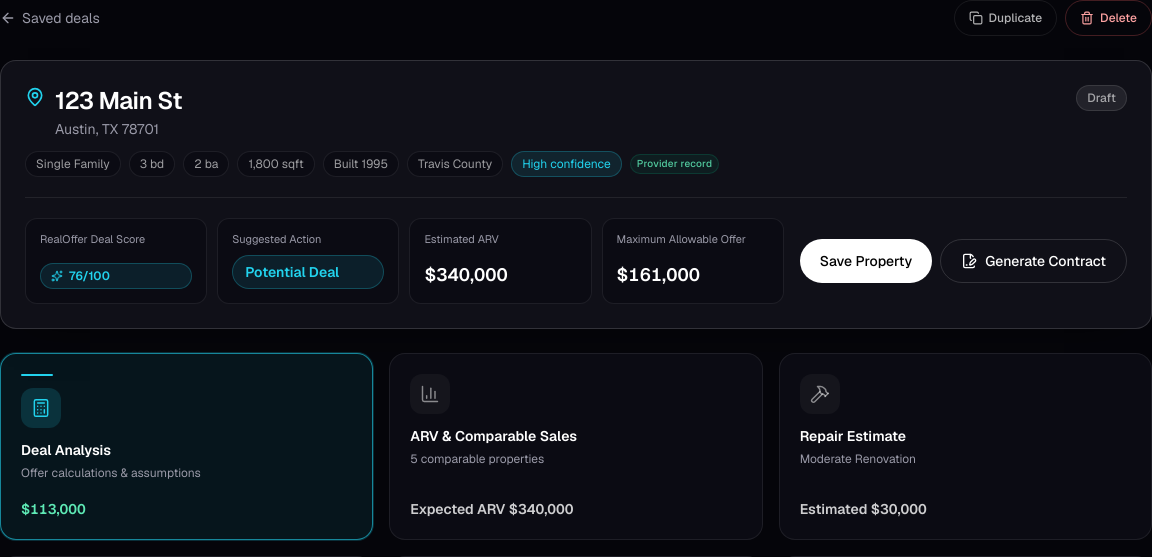
Test: DealWorkspace — section switching › renders only the selected section's content — never more than one at a time
Click the tab "ARV & Comparable Sales" at (576, 447), box [389,353,763,540]
(page scrolled)
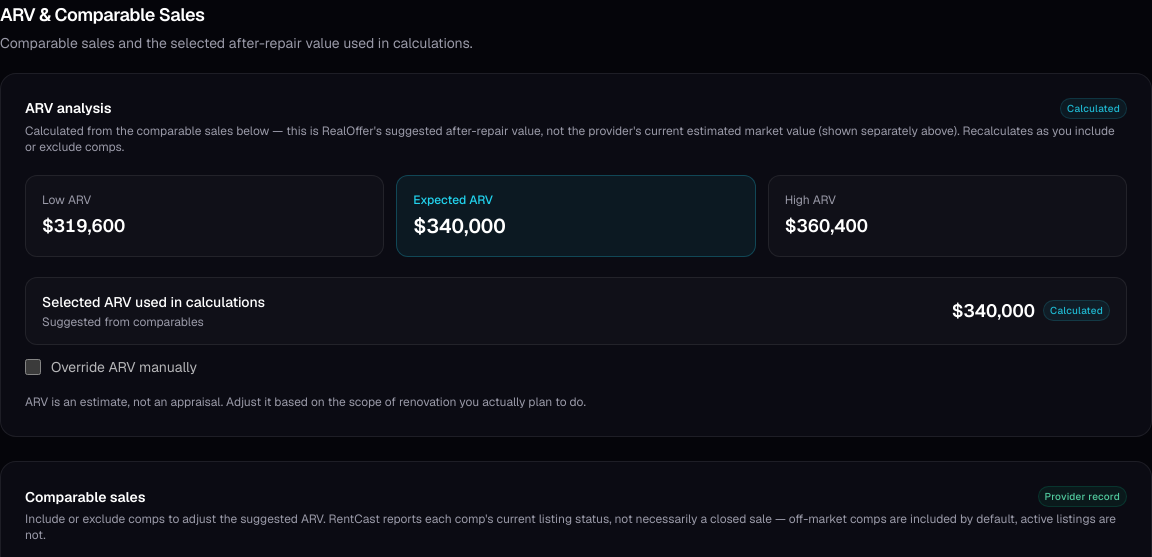
expect the heading "Comparable sales" is shown: met, box [25,487,145,507]
